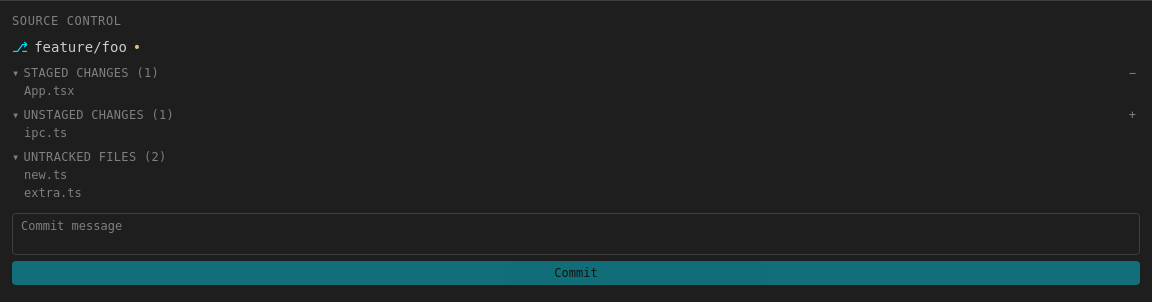
it: SourceControl — commit › commit button is enabled when message is not empty
Type "add feature" into the text box with test id "commit-message".
click(576, 234); type("add feature")  # box [12, 213, 1140, 255]
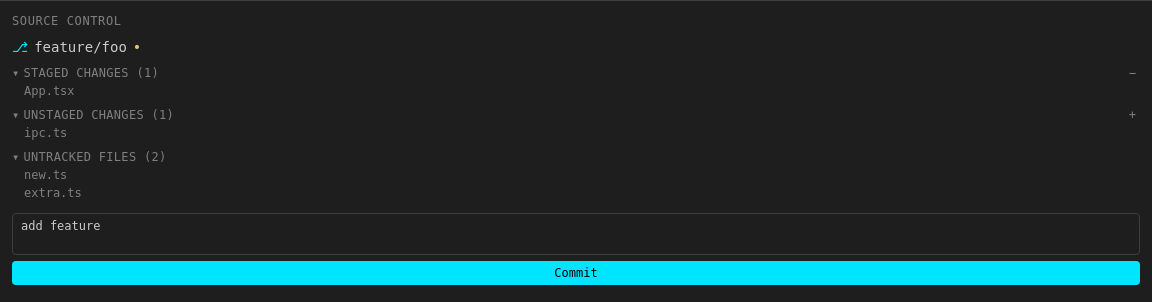
Result: the button with test id "commit-btn" is enabled at [12, 261, 1140, 285]
